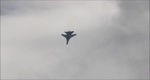maybay_muctieu: (61, 29, 76, 47)
